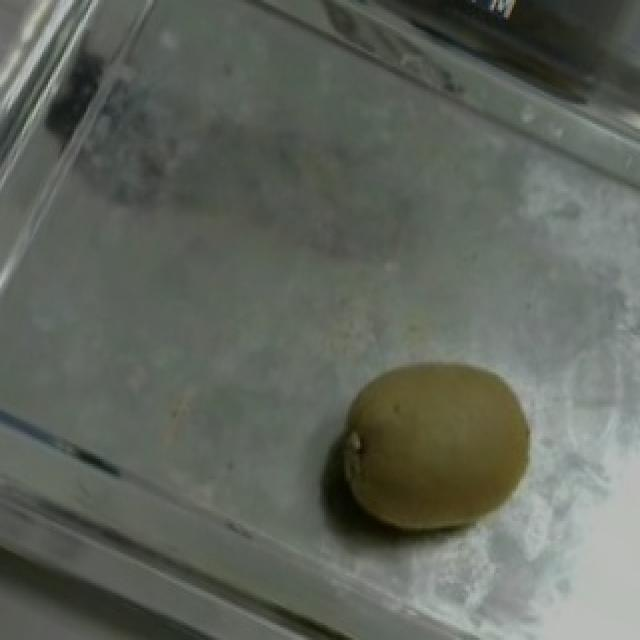Fruit: (290, 323, 572, 573)
